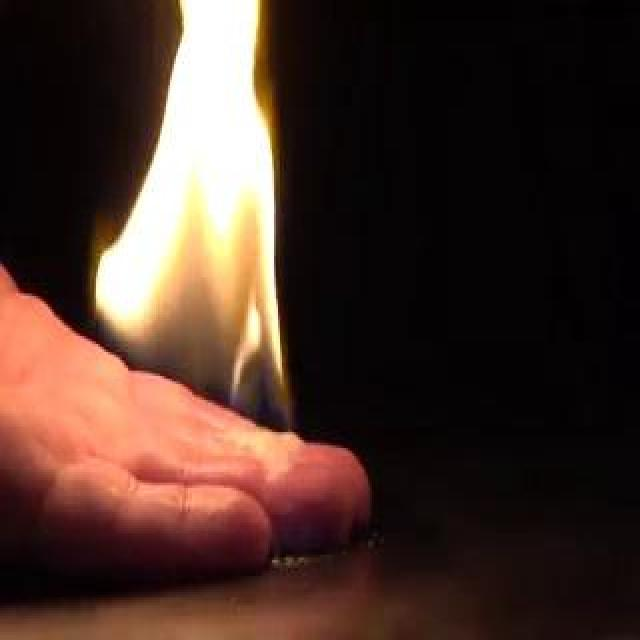Fire: (155, 32, 271, 429)
